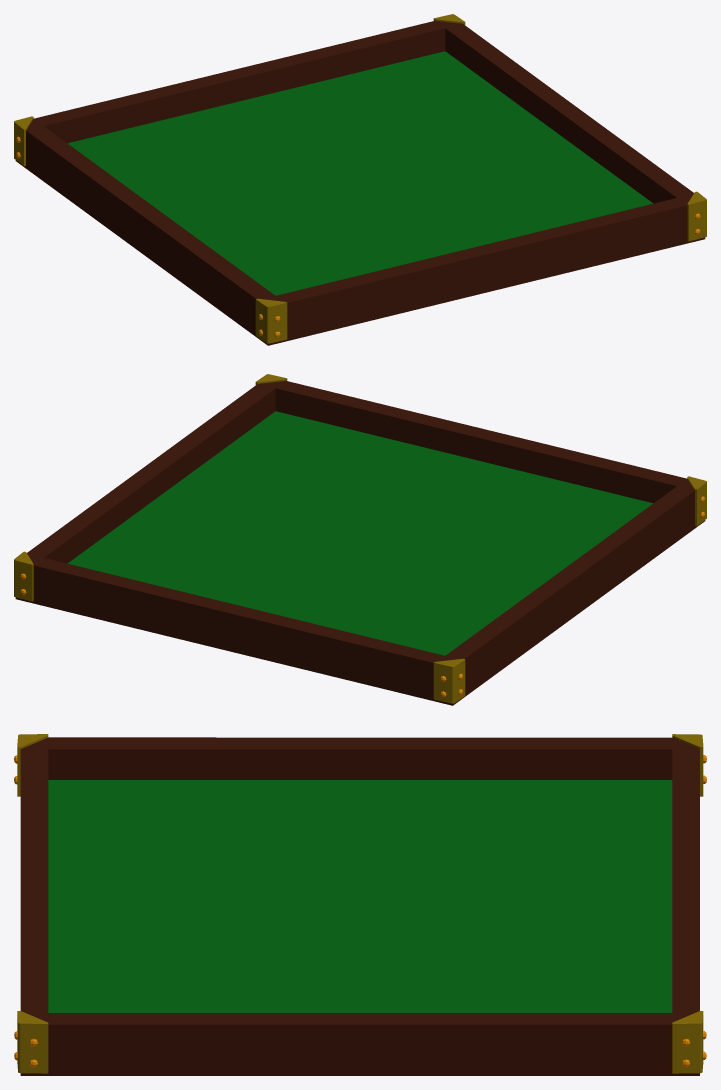
Rendered from mappedLab.FBX.
3 renders of one model, top to bottom at view 1: azimuth 30°, elevation 25°; view 2: azimuth 150°, elevation 25°; view 3: azimuth 270°, elevation 25°, orthographic. The views are drawn at different scales.
Parts seen in each view (by area): view 1: Object002, Box001, cornercap2, cornercap3, cornercap1; view 2: Object002, Box001, cornercap1, cornercap4, cornercap2; view 3: Object002, Box001, cornercap3, cornercap4.
Boxes of the visible parts, box(x1,y1,x2,y2) form: Object002: box(68, 51, 652, 295); Box001: box(15, 20, 705, 345); cornercap2: box(255, 298, 287, 343); cornercap3: box(687, 191, 706, 241); cornercap1: box(14, 116, 33, 166); Object002: box(68, 411, 652, 655); Box001: box(15, 380, 705, 705); cornercap1: box(433, 658, 465, 703); cornercap4: box(14, 551, 33, 601); cornercap2: box(687, 476, 706, 526); Object002: box(48, 780, 672, 1012); Box001: box(14, 737, 706, 1075); cornercap3: box(17, 1011, 48, 1073); cornercap4: box(672, 1011, 703, 1073).
Bounding box in the file's own units: 612 × 52.06 × 612.
